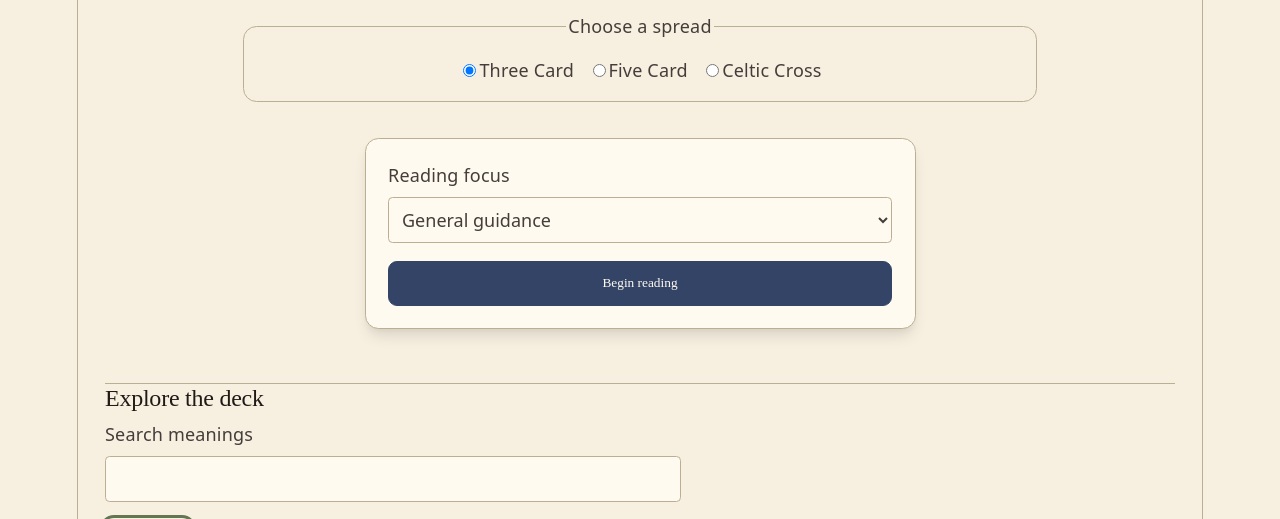
Test: renders the active reading with its selected spread
Click the radio button labelled "Celtic Cross" at x=713, y=71, box [706, 64, 719, 77]
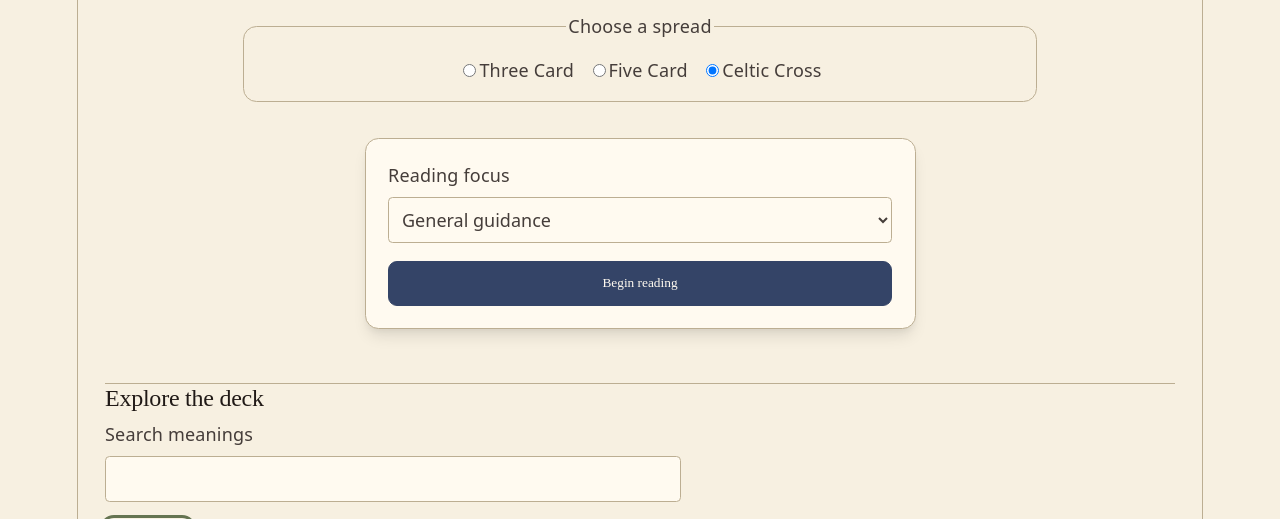
Click the button "Begin reading" at x=640, y=284, box [388, 261, 892, 306]
(page scrolled)
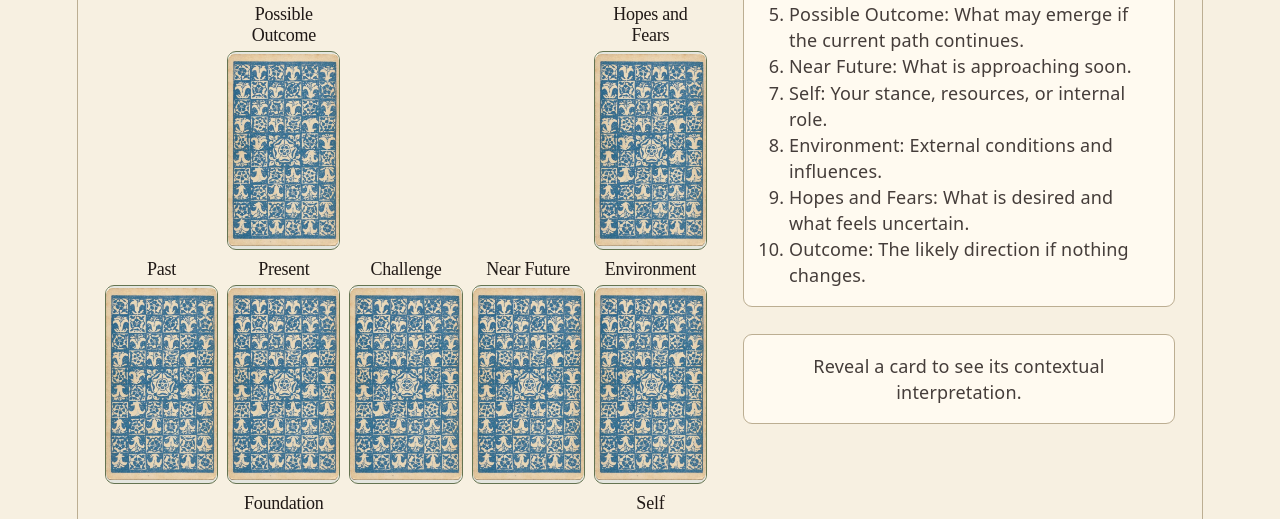
Check: the number of buttons named "face down" is 10
